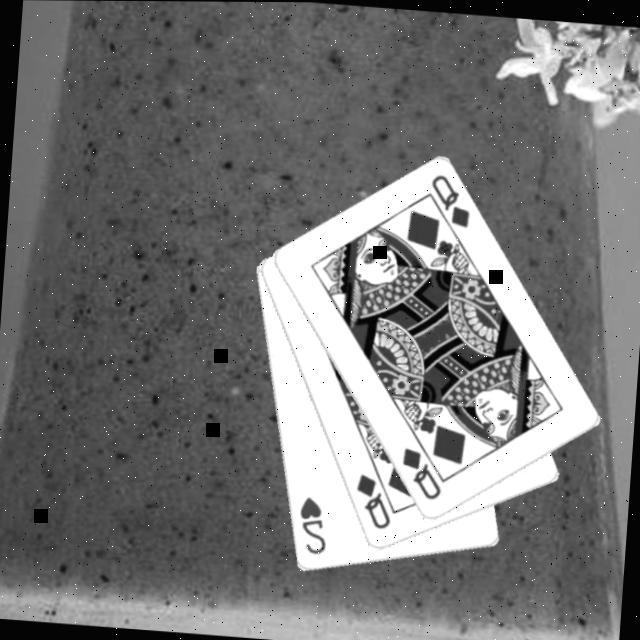2H: (291, 493, 330, 558)
QD: (393, 445, 445, 504), (423, 170, 473, 231), (348, 470, 394, 533)
